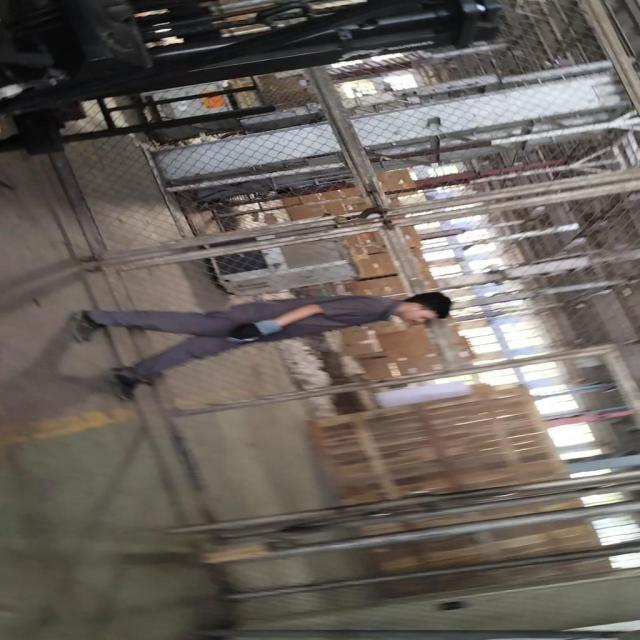Gloves-Detection: (229, 319, 286, 346)
